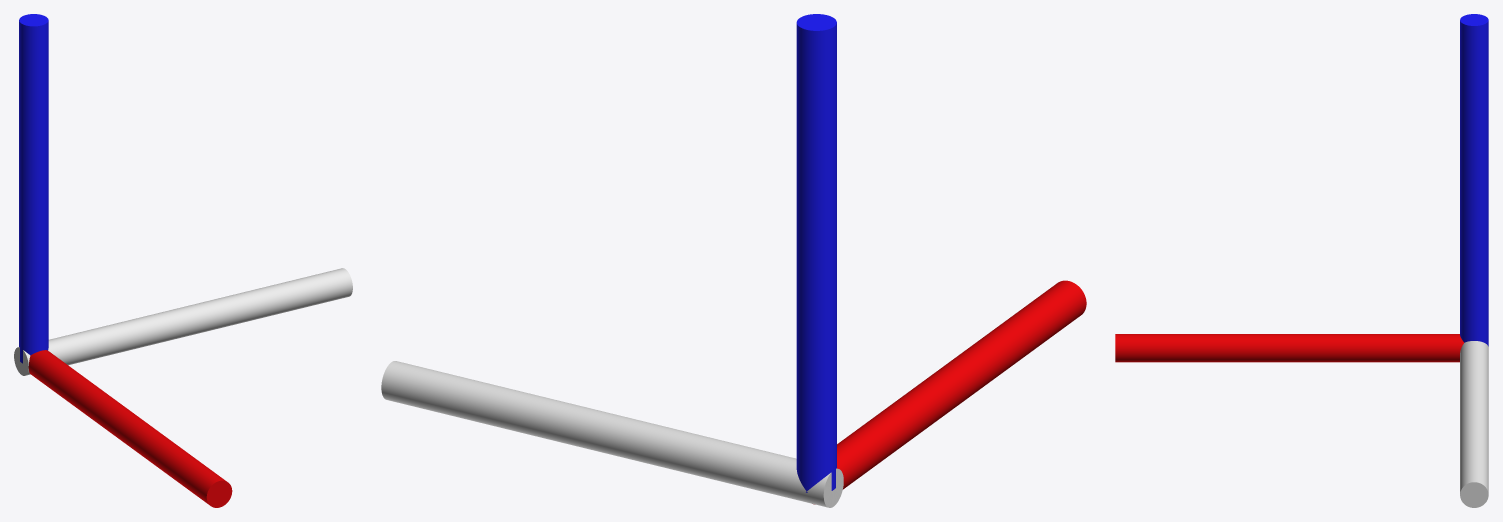
Rendered from testgizmo.fbx.
3 views of the same model, side by side, from view 1: azimuth 30°, elevation 25°; view 2: azimuth 150°, elevation 25°; view 3: azimuth 270°, elevation 25° (orthographic). The views are drawn at different scales.
Visible parts, largest first — view 1: mesh_id43, mesh_id30, mesh_id49; view 2: mesh_id43, mesh_id30, mesh_id49; view 3: mesh_id49, mesh_id43, mesh_id30.
Boxes of the visible parts, x1=… form: mesh_id43: x1=19, y1=14, x2=48, y2=363; mesh_id30: x1=14, y1=268, x2=352, y2=375; mesh_id49: x1=28, y1=350, x2=232, y2=507; mesh_id43: x1=796, y1=14, x2=836, y2=492; mesh_id30: x1=381, y1=361, x2=843, y2=507; mesh_id49: x1=813, y1=280, x2=1086, y2=504; mesh_id49: x1=1115, y1=334, x2=1463, y2=362; mesh_id43: x1=1460, y1=14, x2=1488, y2=346; mesh_id30: x1=1460, y1=341, x2=1488, y2=507.
Size of the model in its own units: 27.58 by 28.58 by 28.37.
